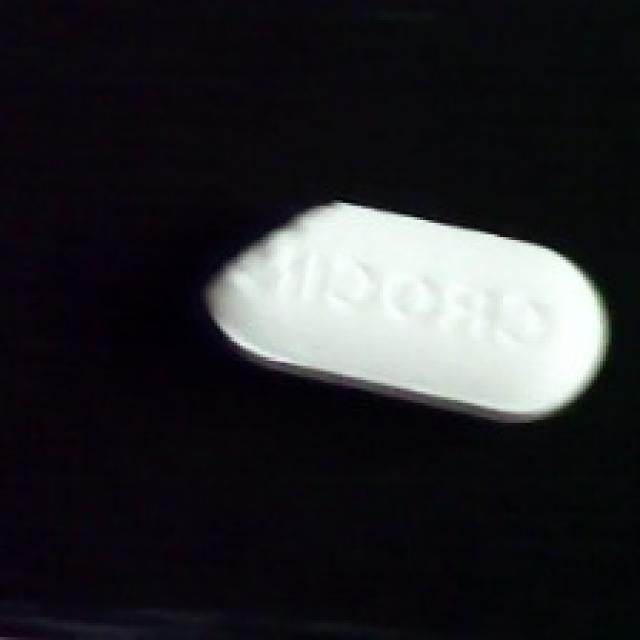defected: (197, 194, 612, 429)
